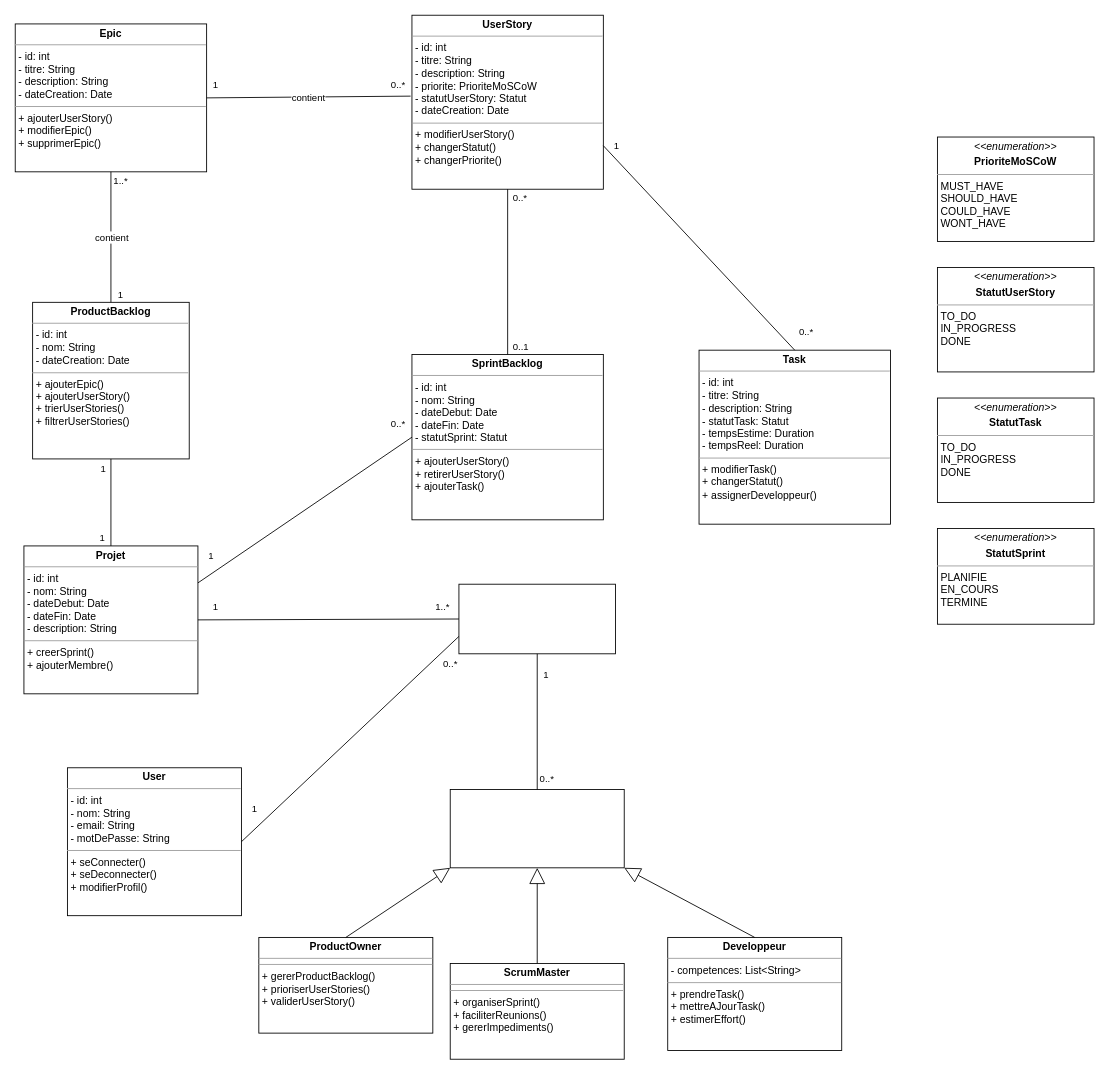
Image size: 1109x1074. Some labels were removed from this diagram. Each missing label, with the centre of its shape:
"<<abstract>> Role + getPermissions()" belongs at point (536, 828).
"MembreProjet - dateAjout: Date" belongs at point (537, 618).
